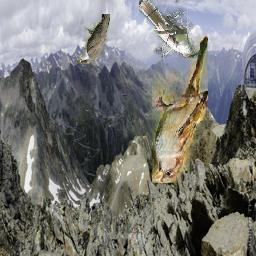Cuckoo: (139, 0, 201, 58), (76, 14, 110, 64)
Sparrow: (152, 37, 208, 184)
